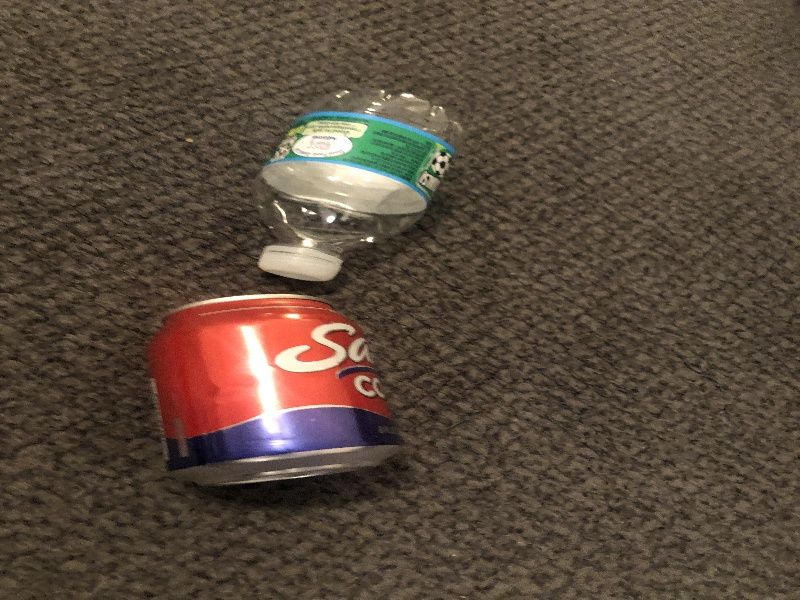metal: (142, 290, 413, 493)
plastic: (252, 80, 465, 282)
